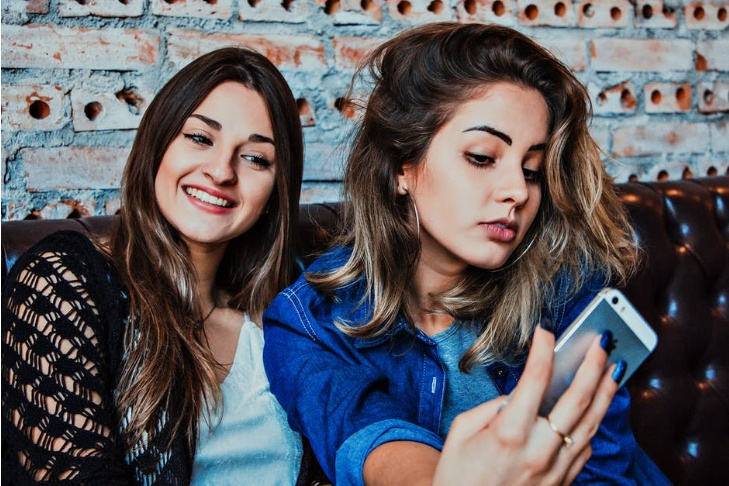face: (419, 85, 548, 269), (156, 81, 279, 240)
